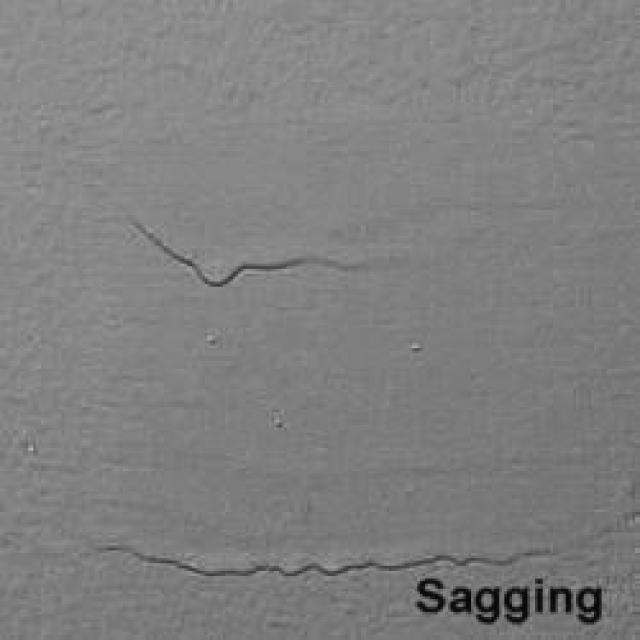paint drips: (83, 173, 403, 304), (59, 514, 640, 580)
